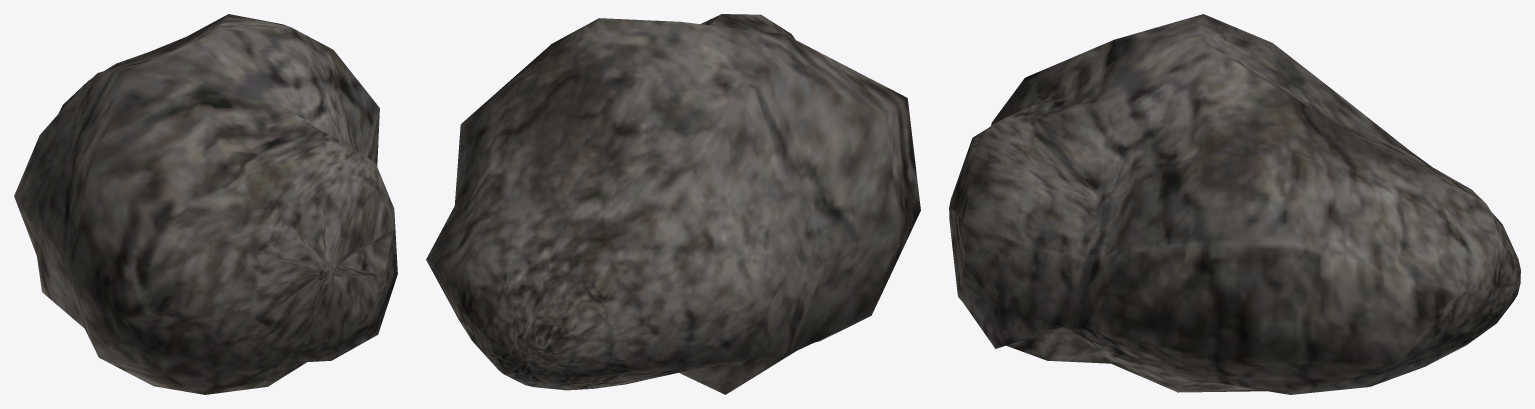
File: rock_debris02.dae
3 renders of one model, left to right at view 1: azimuth 30°, elevation 25°; view 2: azimuth 150°, elevation 25°; view 3: azimuth 270°, elevation 25°, orthographic. The views are drawn at different scales.
Parts seen in each view (by area): view 1: Group3; view 2: Group3; view 3: Group3.
Part boxes in pixels (x1,y1,x2,y2): Group3: (14, 14, 397, 394); Group3: (426, 14, 920, 394); Group3: (949, 14, 1520, 394).
Size of the model in its own units: 0.1078 by 0.0946 by 0.1439.
